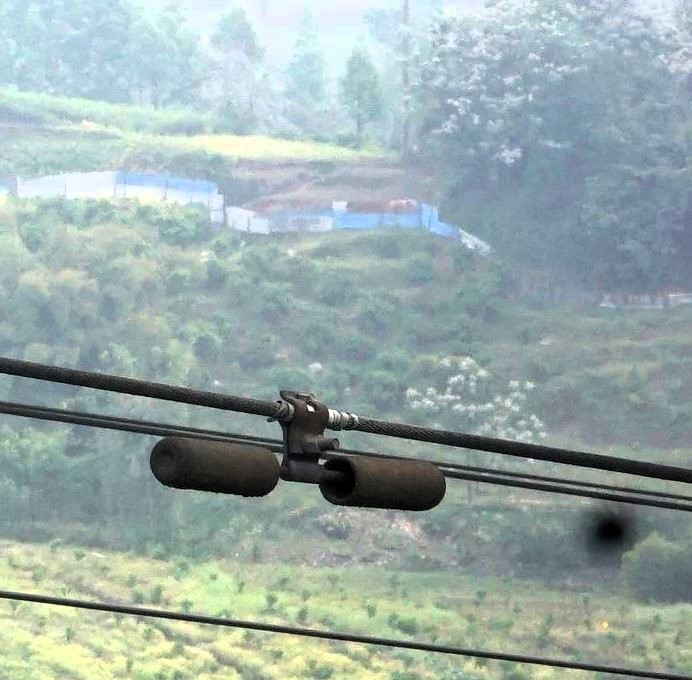Shockproof hammer: (139, 374, 451, 521)
